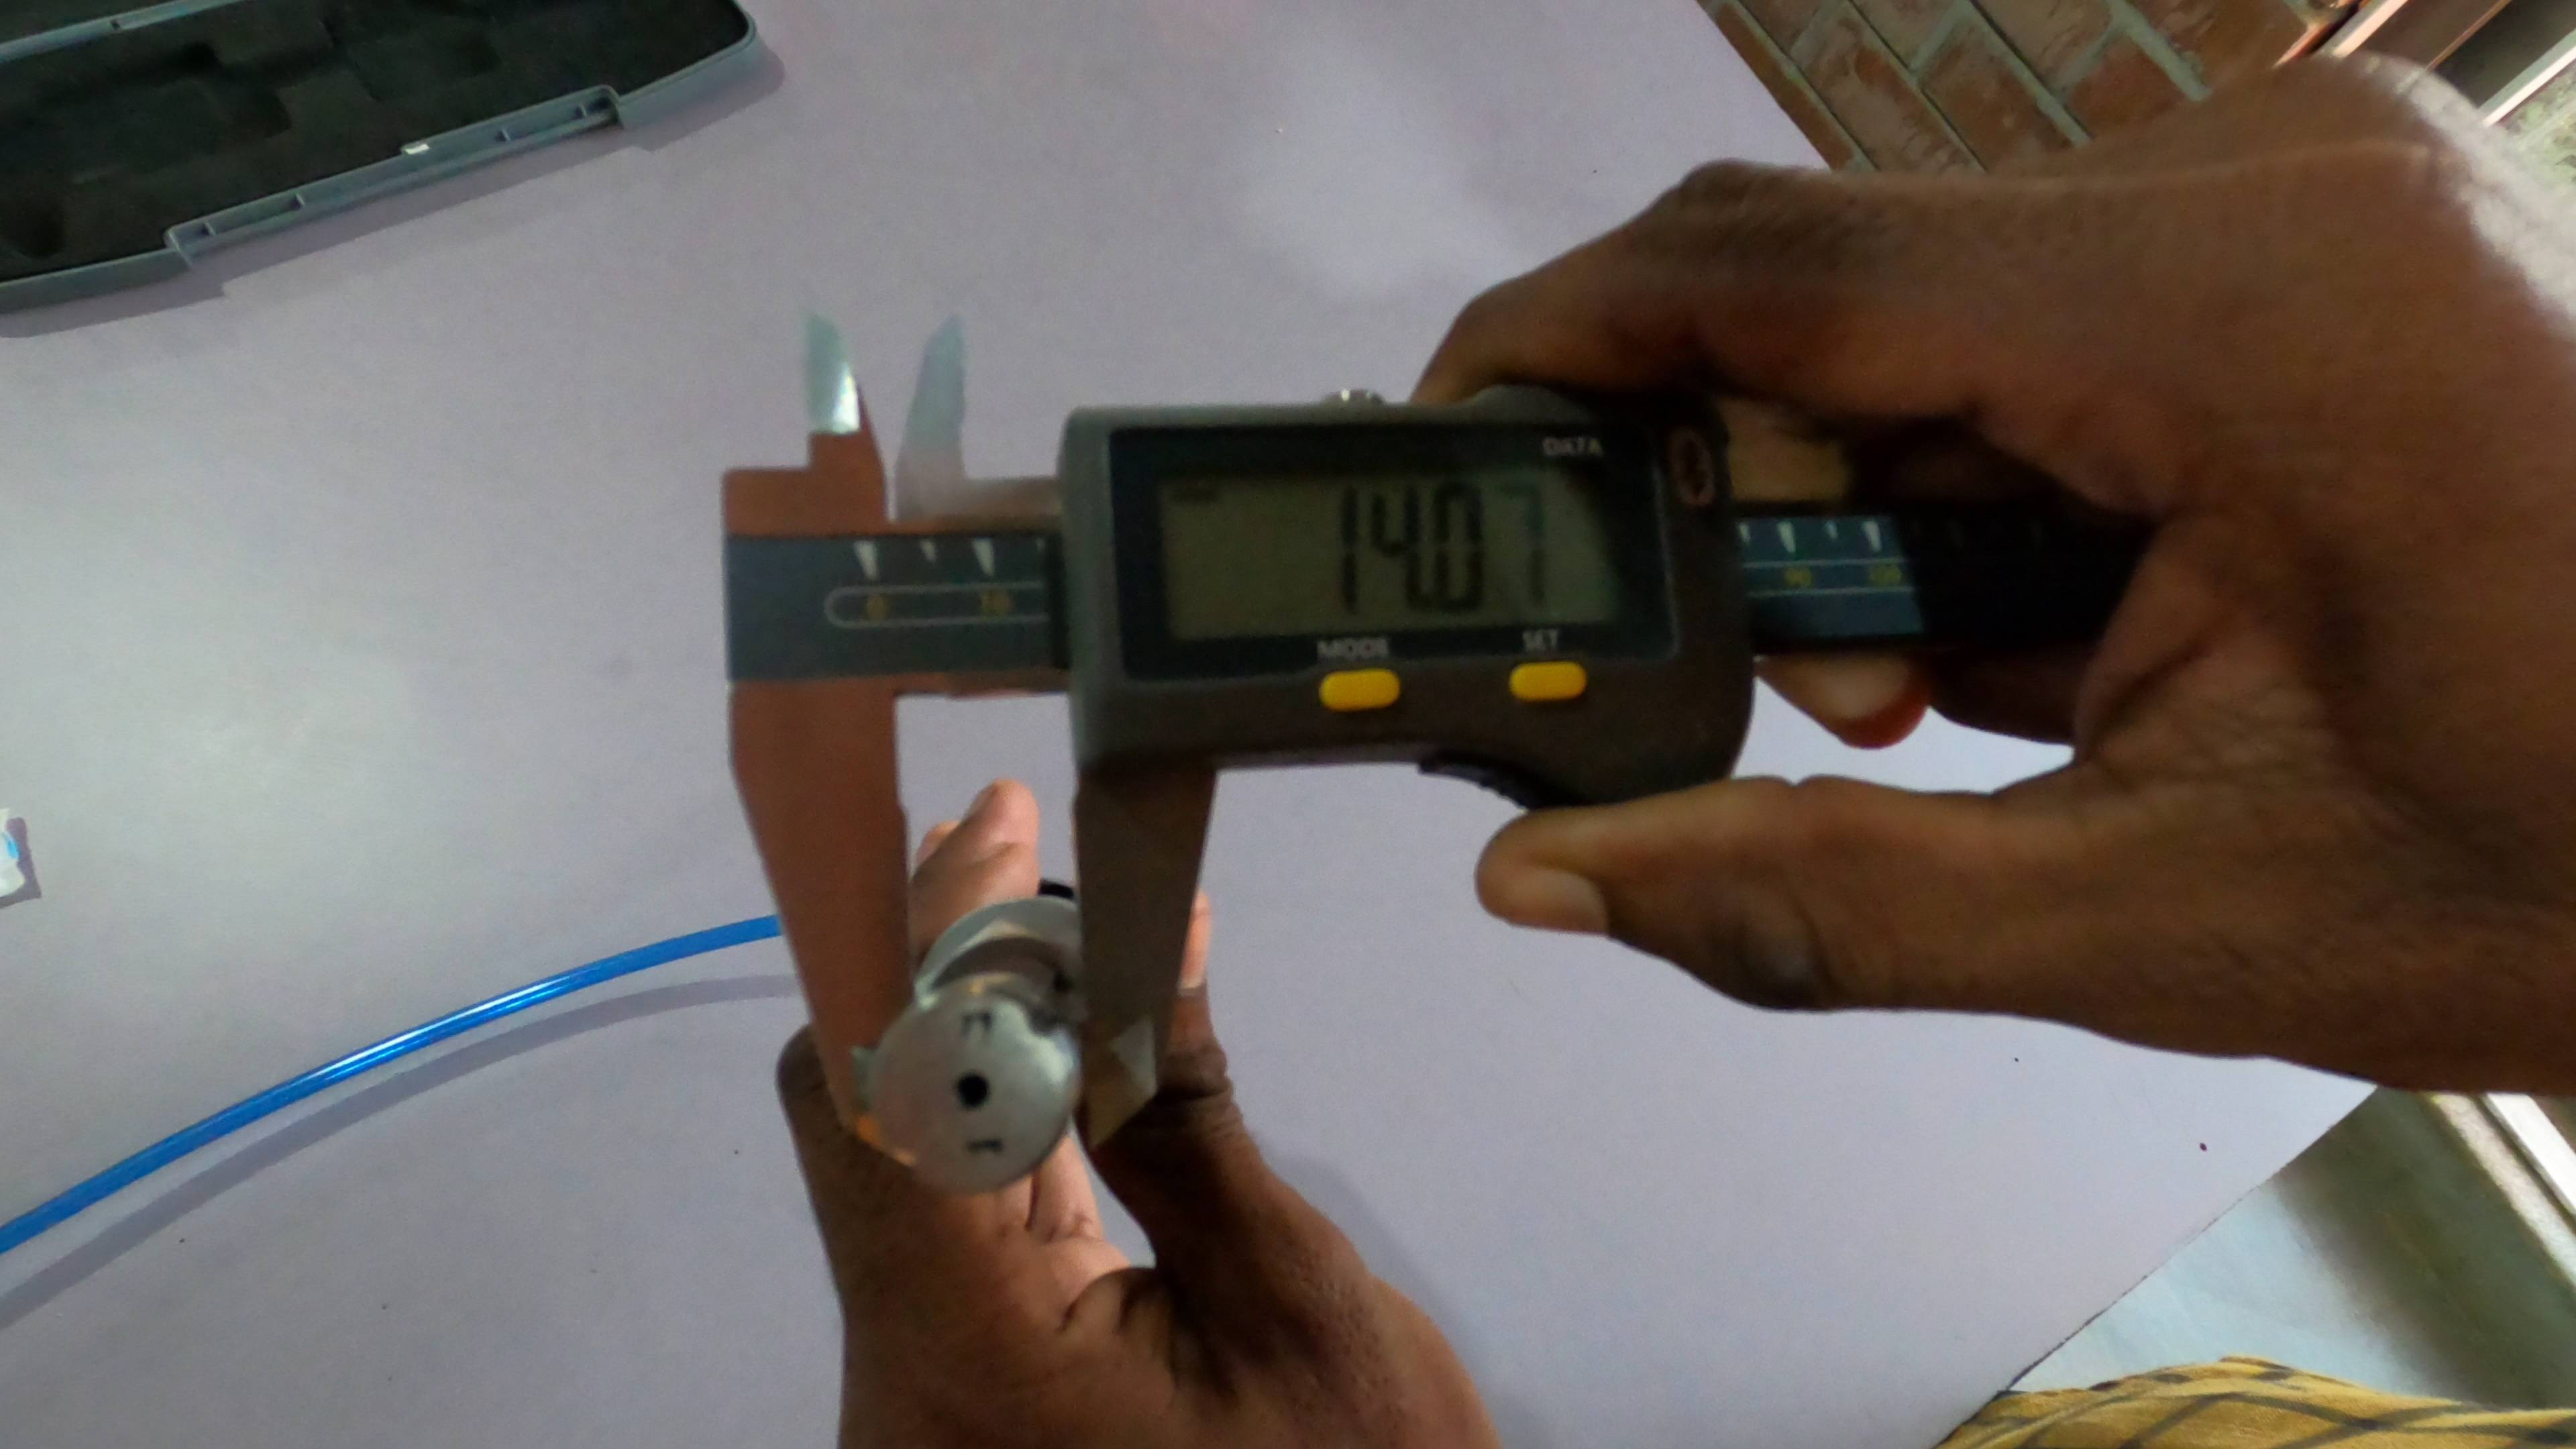vernier_caliper: (718, 313, 2118, 1187)
